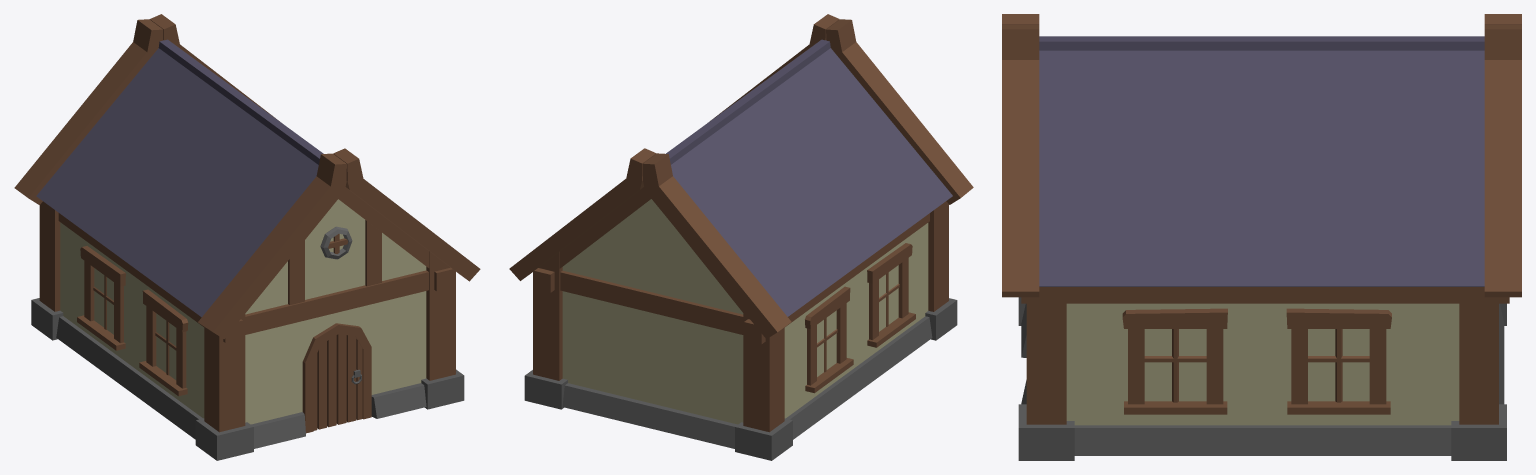
Rendered from House_2.fbx.
3 views of the same model, side by side, from view 1: azimuth 30°, elevation 25°; view 2: azimuth 150°, elevation 25°; view 3: azimuth 270°, elevation 25° (orthographic). The views are drawn at different scales.
Visible parts, largest first — view 1: 03_krisha.003, Cube.008, 02_stolby_krisha.003, Cube.013, 18_rama_okno_vertik, House.002, Cube.014, Cube.018, Cube.015, Cube.016, 02_stolby_krisha.004, Torus.003; view 2: Cube.008, 03_krisha.003, 02_stolby_krisha.003, Cube.013, 18_rama_okno_vertik, Cube.014, Cube.015, 02_stolby_krisha.004; view 3: 03_krisha.003, Cube.008, 02_stolby_krisha.003, Cube.013, 18_rama_okno_vertik, Cube.015.
Boxes of the visible parts, x1=… form: 03_krisha.003: x1=36, y1=39, x2=323, y2=317; Cube.008: x1=56, y1=199, x2=426, y2=448; 02_stolby_krisha.003: x1=14, y1=14, x2=480, y2=339; Cube.013: x1=31, y1=201, x2=464, y2=460; 18_rama_okno_vertik: x1=77, y1=246, x2=188, y2=396; House.002: x1=313, y1=334, x2=362, y2=430; Cube.014: x1=245, y1=270, x2=428, y2=334; Cube.018: x1=302, y1=323, x2=371, y2=433; Cube.015: x1=58, y1=213, x2=454, y2=342; Cube.016: x1=288, y1=220, x2=381, y2=304; 02_stolby_krisha.004: x1=338, y1=187, x2=429, y2=267; Torus.003: x1=320, y1=226, x2=352, y2=259; Cube.008: x1=562, y1=199, x2=932, y2=448; 03_krisha.003: x1=666, y1=39, x2=952, y2=316; 02_stolby_krisha.003: x1=509, y1=14, x2=973, y2=338; Cube.013: x1=524, y1=201, x2=957, y2=460; 18_rama_okno_vertik: x1=805, y1=243, x2=915, y2=393; Cube.014: x1=560, y1=270, x2=743, y2=334; Cube.015: x1=533, y1=213, x2=929, y2=344; 02_stolby_krisha.004: x1=559, y1=187, x2=743, y2=312; 03_krisha.003: x1=1039, y1=36, x2=1484, y2=286; Cube.008: x1=1021, y1=303, x2=1504, y2=455; 02_stolby_krisha.003: x1=1002, y1=14, x2=1521, y2=297; Cube.013: x1=1018, y1=287, x2=1506, y2=460; 18_rama_okno_vertik: x1=1122, y1=308, x2=1391, y2=414; Cube.015: x1=1021, y1=287, x2=1509, y2=303.
Bounding box in the file's own units: 336 × 327 × 429.
